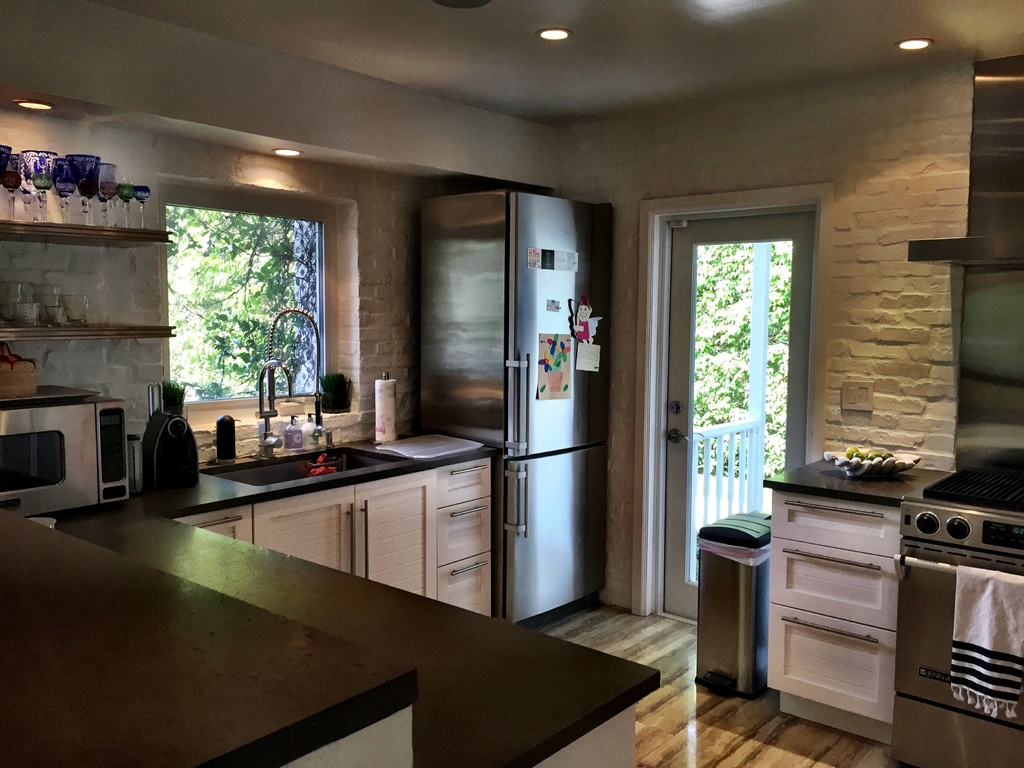Cabinetry: (767, 466, 954, 744), (172, 456, 492, 616)
